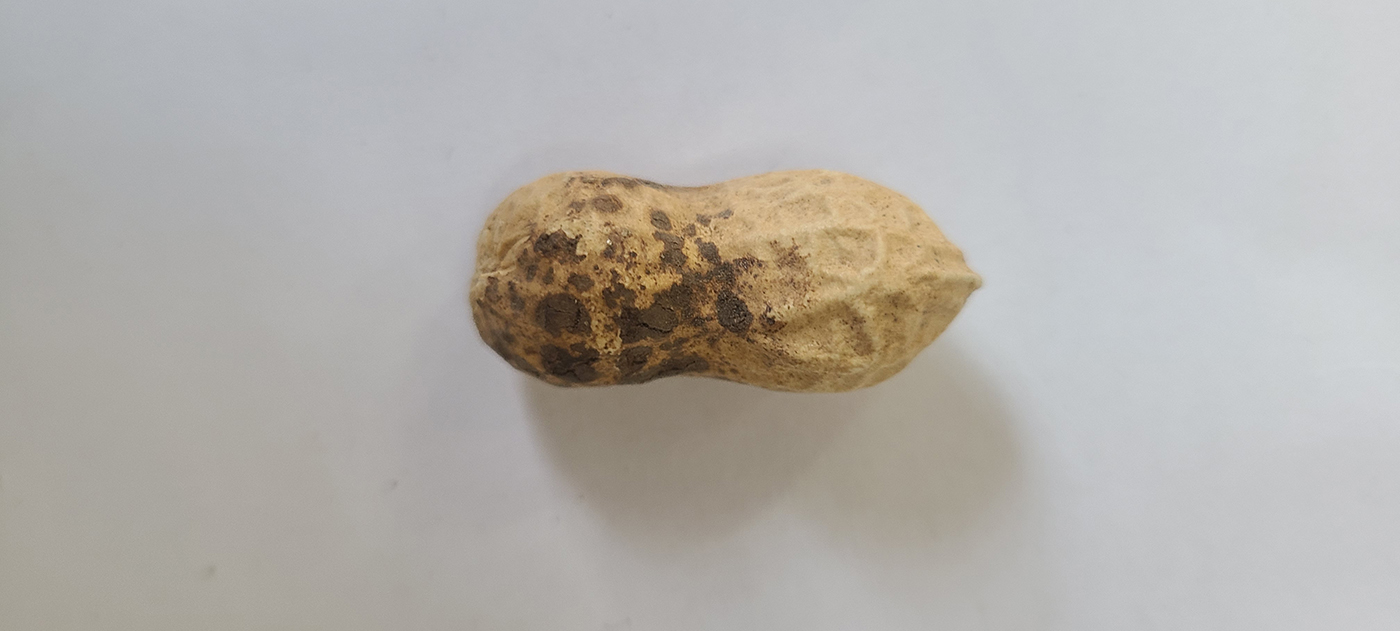h: (466, 162, 981, 394)
